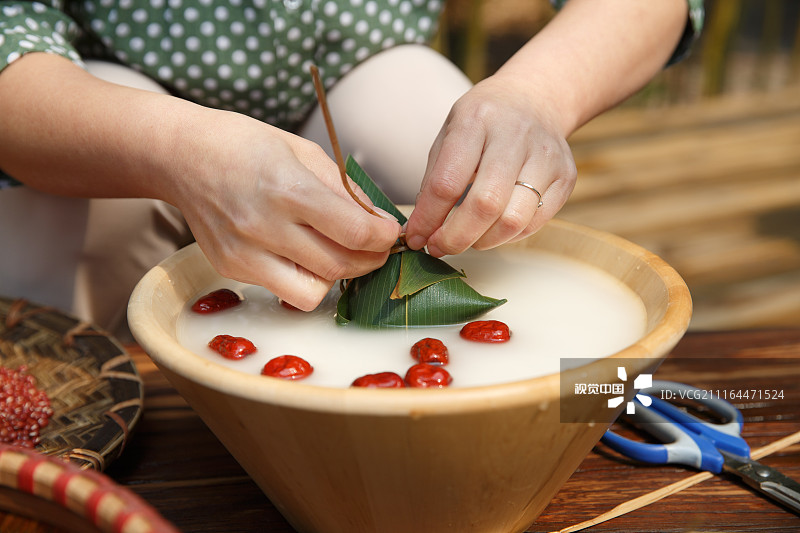no-phone: (160, 92, 412, 315), (400, 73, 584, 264)
